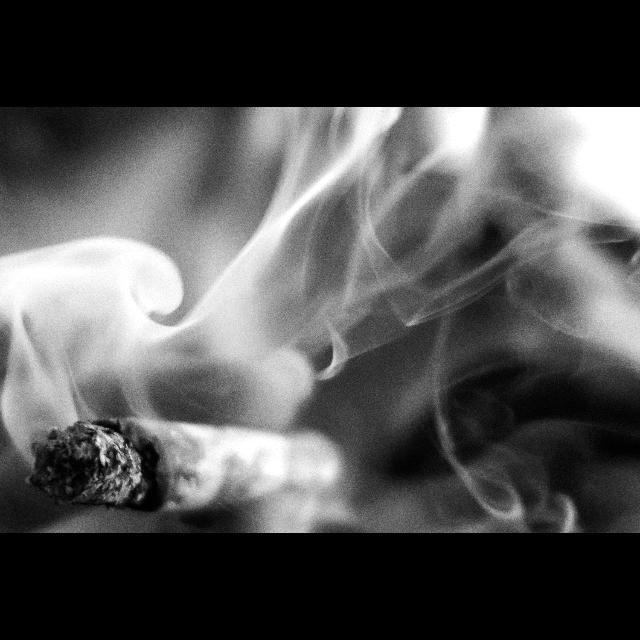smoke: (0, 107, 510, 534), (383, 371, 640, 489)
